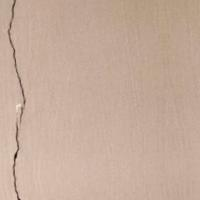crack: (1, 0, 31, 199)
